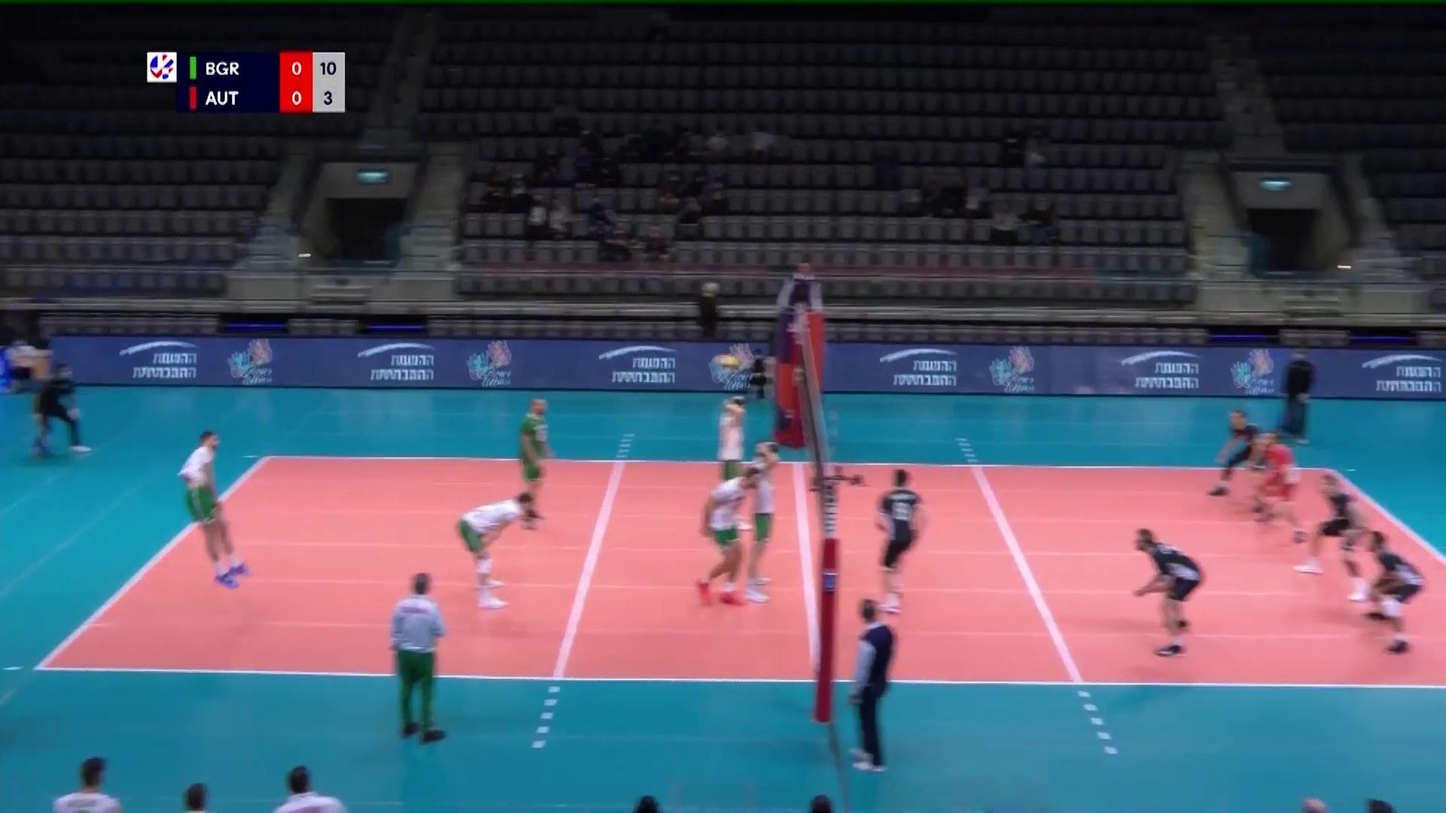ball: (717, 355, 740, 368)
